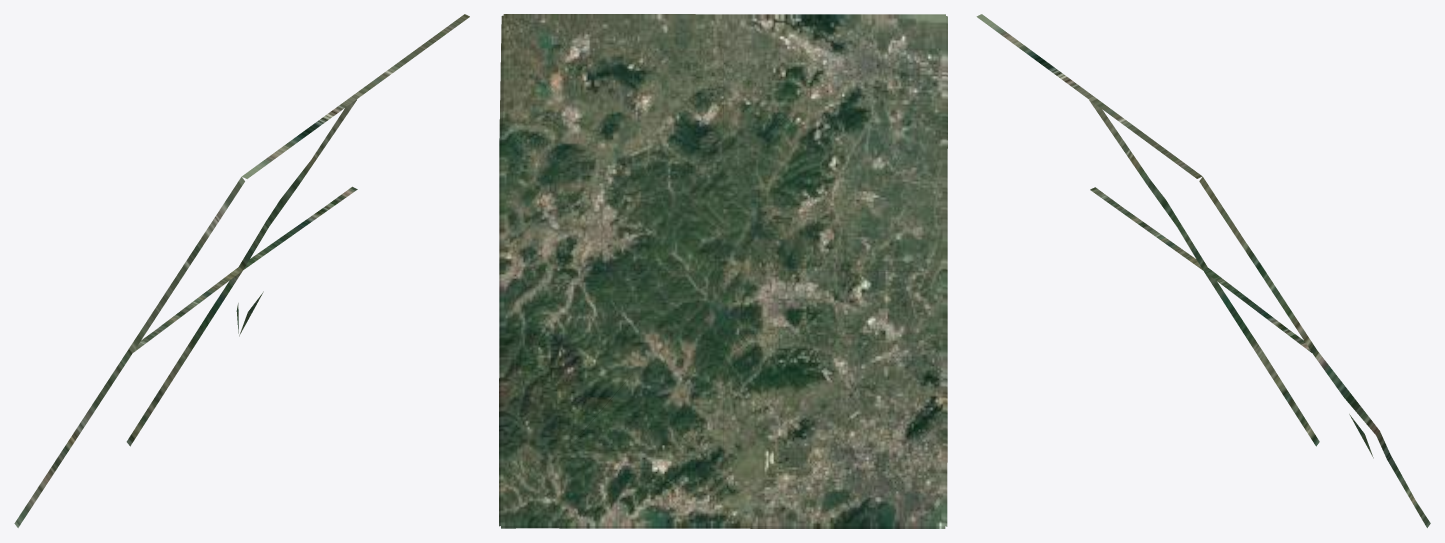
3 views of the same model, side by side, from view 1: azimuth 30°, elevation 25°; view 2: azimuth 150°, elevation 25°; view 3: azimuth 270°, elevation 25° (orthographic).
Bounding box in the file's own units: 79053 × 68161 × 69198.
1 material, 1 textured.
